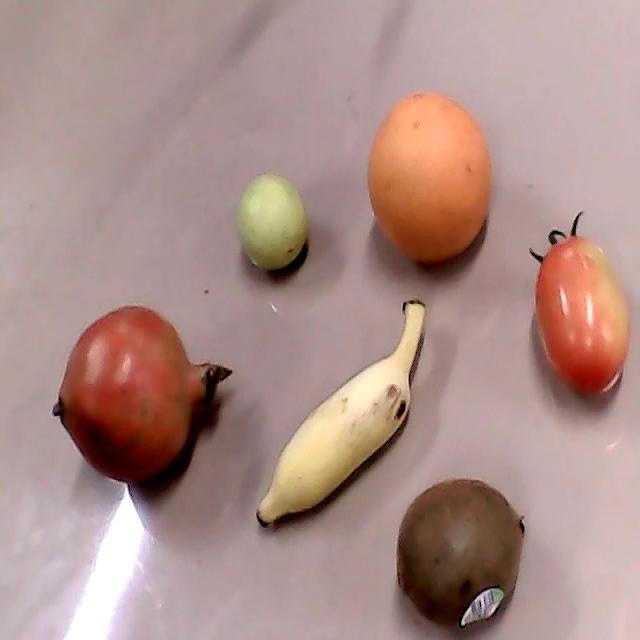kiwi: (395, 478, 527, 630)
lemon: (235, 175, 306, 269)
orange: (369, 91, 493, 261)
pomegranate: (53, 306, 233, 485)
tomato: (529, 212, 629, 396)
